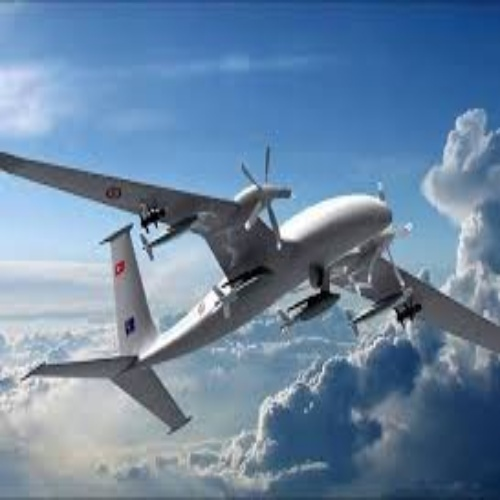uav: (1, 143, 500, 432)
